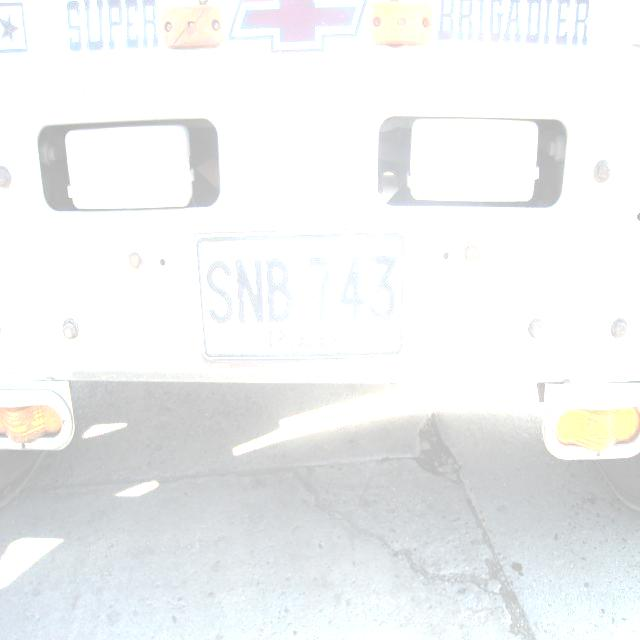particular: (190, 224, 412, 366)
